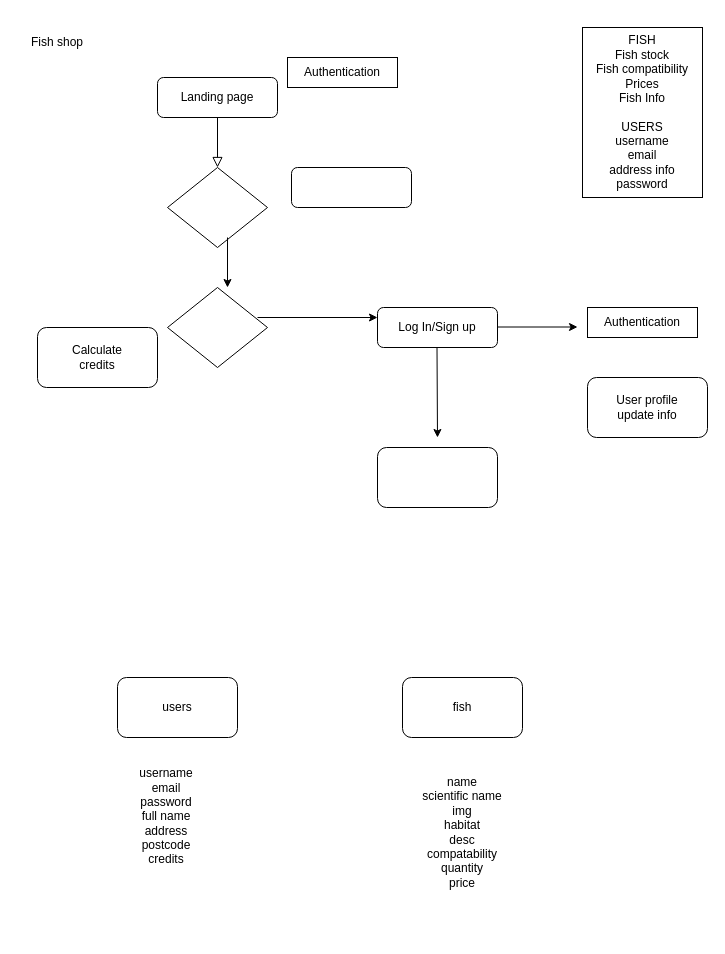
Image size: 725x954. Some labels were removed from this diagram. Each missing label, with the box of its shape:
Basket: (166, 286, 268, 368)
Checkout credits delivery: (376, 446, 498, 508)
fish pages full fish info: (290, 166, 412, 208)
shop all fish: (166, 166, 268, 248)
